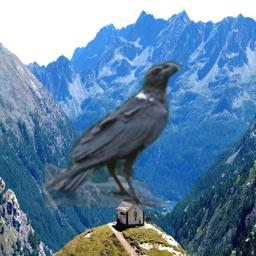Crow: (45, 60, 183, 207)
